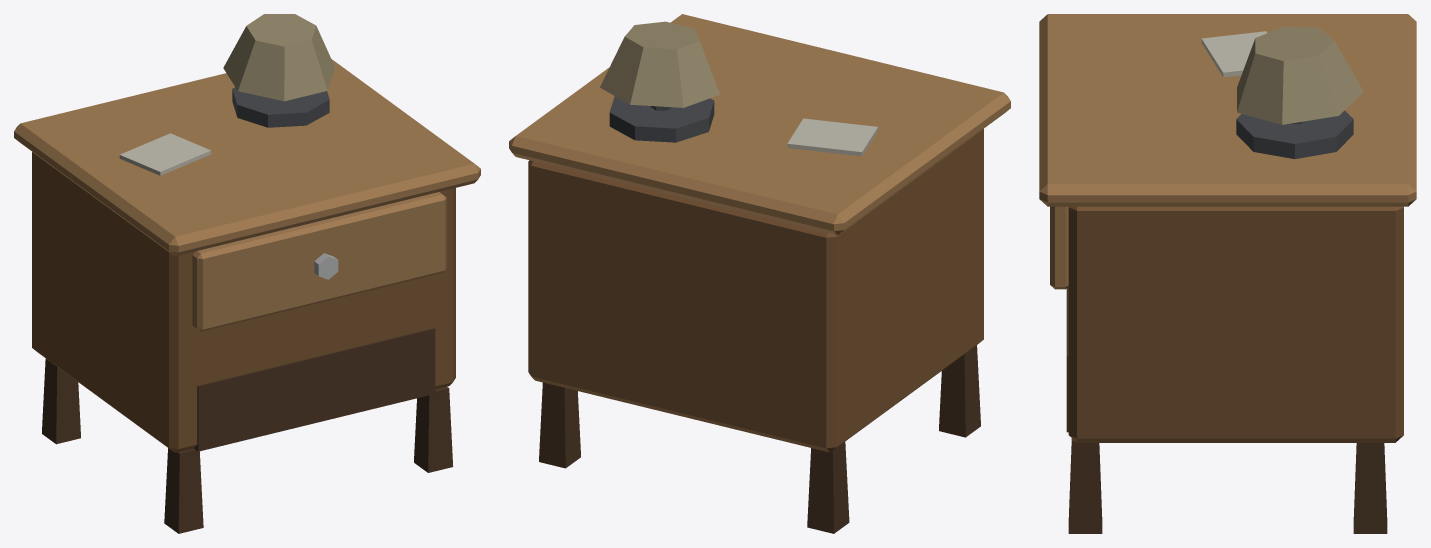
File: furn_nightstand.fbx
The picture shows the model from 3 angles, left to right: view 1: azimuth 30°, elevation 25°; view 2: azimuth 150°, elevation 25°; view 3: azimuth 270°, elevation 25°; orthographic projection. The views are drawn at different scales.
Parts seen in each view (by area): view 1: furn_nightstand, Drawer_1; view 2: furn_nightstand; view 3: furn_nightstand, Drawer_1.
Part boxes in pixels (bbox=[...]): furn_nightstand: bbox=[14, 14, 480, 533]; Drawer_1: bbox=[192, 192, 446, 331]; furn_nightstand: bbox=[509, 14, 1010, 533]; furn_nightstand: bbox=[1039, 14, 1416, 533]; Drawer_1: bbox=[1050, 206, 1068, 289].
Bounding box in the file's own units: 0.5 × 0.5934 × 0.45.
